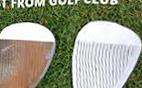rust: (1, 39, 56, 87)
